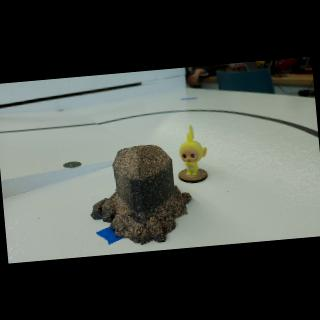teletubby: (179, 126, 207, 175)
